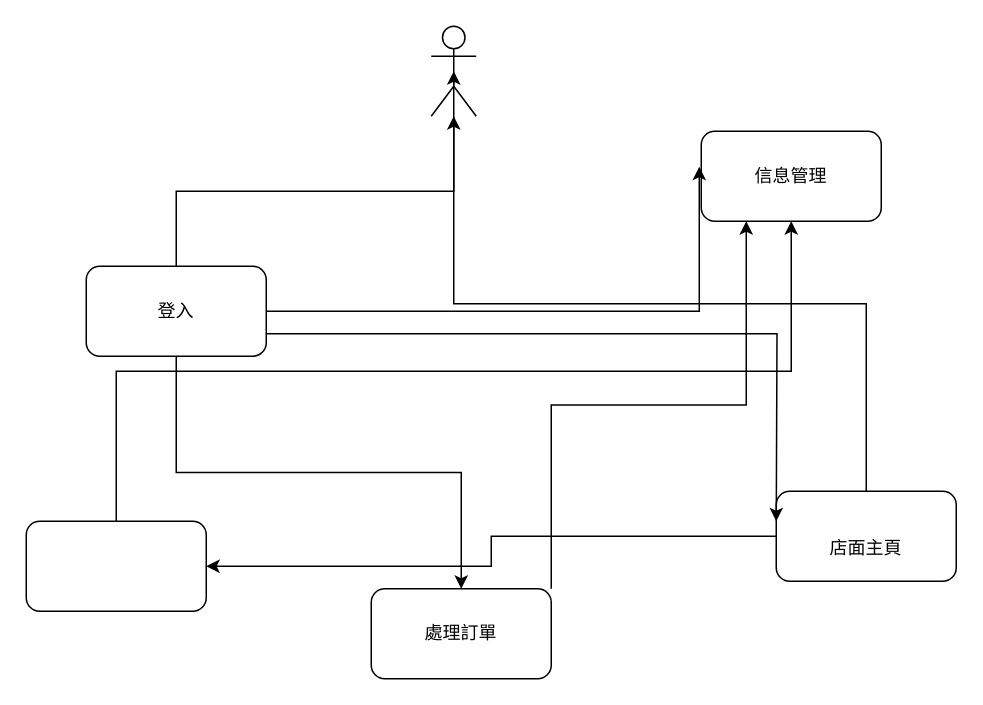
This 983x705 diagram has some shape labels left out. Here are the shapes that lost their labels. From the top down, the centre of each, then its label:
the point at 453,70: Actor
the point at 115,565: 訂單核對
